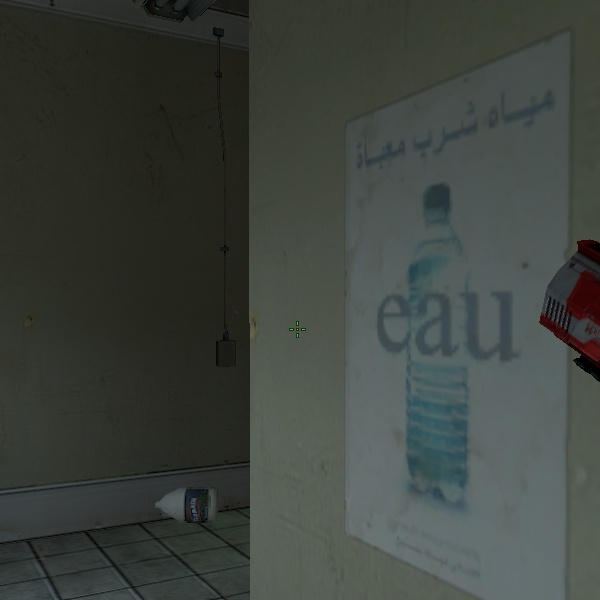t_head: (574, 230, 599, 277)
